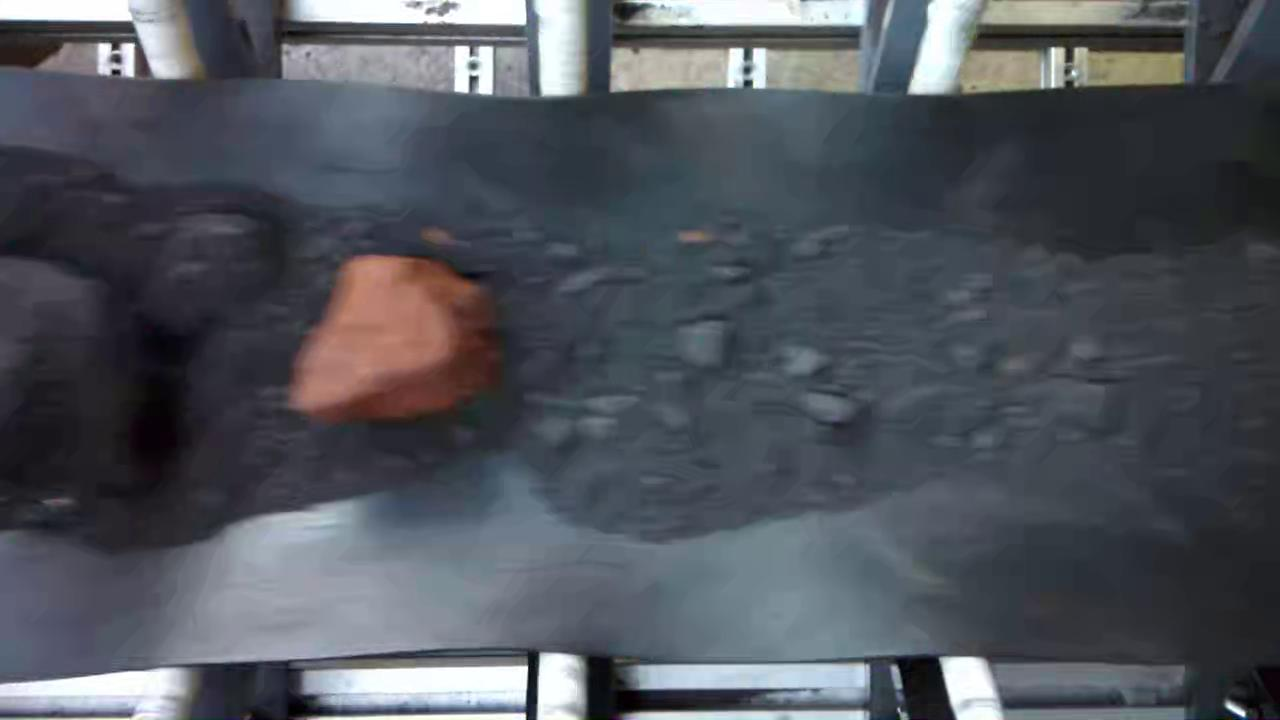conveyor: (9, 103, 1280, 646)
